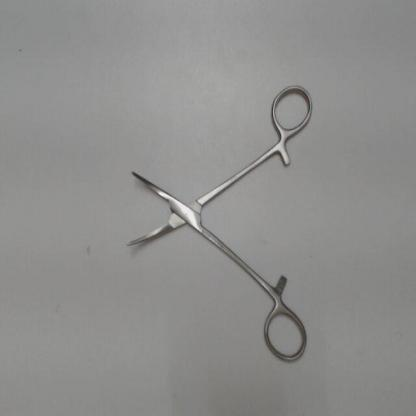Crile Artery Forceps: (117, 77, 319, 372)
